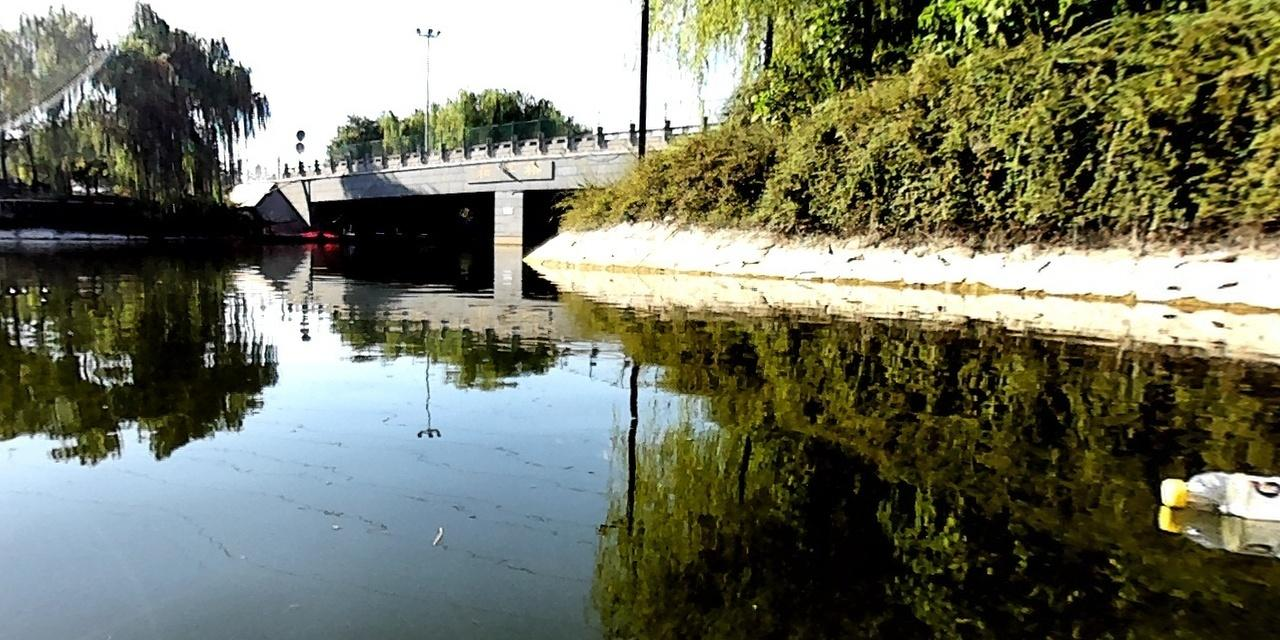bottle: (1154, 468, 1279, 523)
